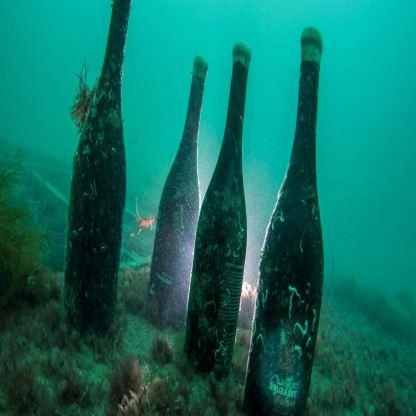gbottle: (242, 25, 329, 416), (184, 38, 254, 377), (63, 1, 133, 332), (147, 56, 209, 330)
